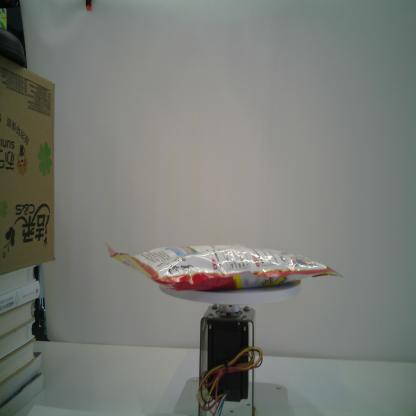Instant Drink: (103, 241, 346, 294)
